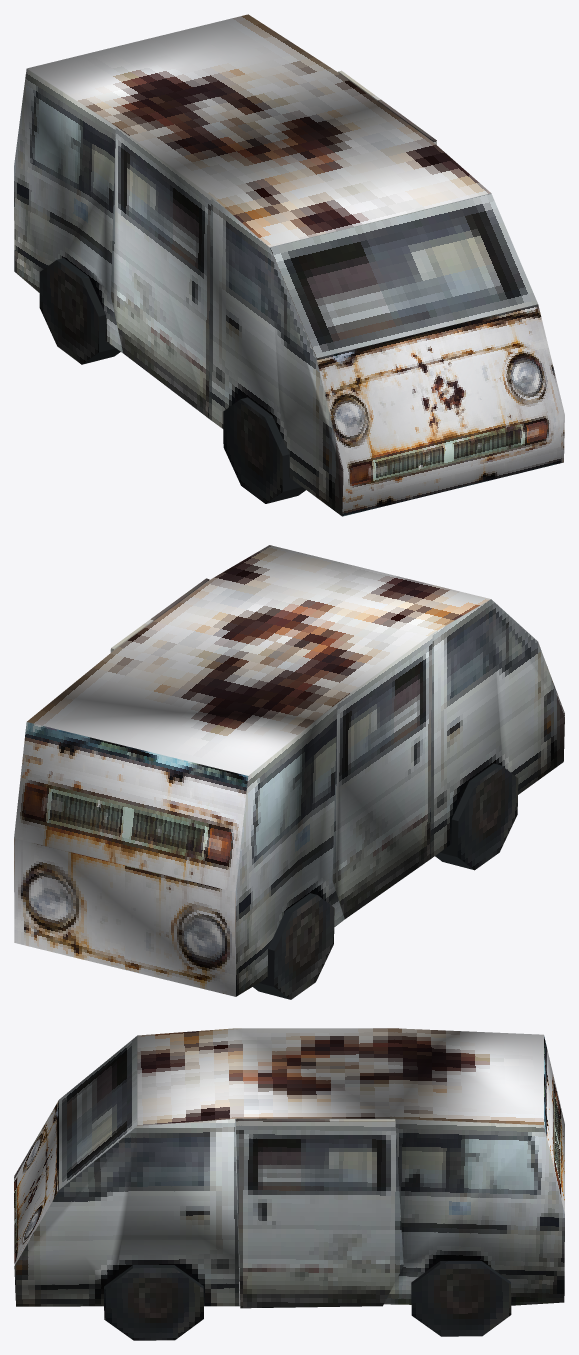
The model's file is Van Fix.glb.
The picture shows the model from 3 angles, top to bottom: view 1: azimuth 30°, elevation 25°; view 2: azimuth 150°, elevation 25°; view 3: azimuth 270°, elevation 25°; orthographic projection. The views are drawn at different scales.
Visible parts, largest first — view 1: Frame; view 2: Frame; view 3: Frame, Door.
Part boxes in pixels (left/top/right/bottom): Frame: left=14, top=14, right=564, bottom=516; Frame: left=14, top=545, right=564, bottom=999; Frame: left=14, top=1028, right=564, bottom=1340; Door: left=235, top=1119, right=403, bottom=1308.
Size of the model in its own units: 1.45 by 1.54 by 3.5.
2 materials, 2 textured.
